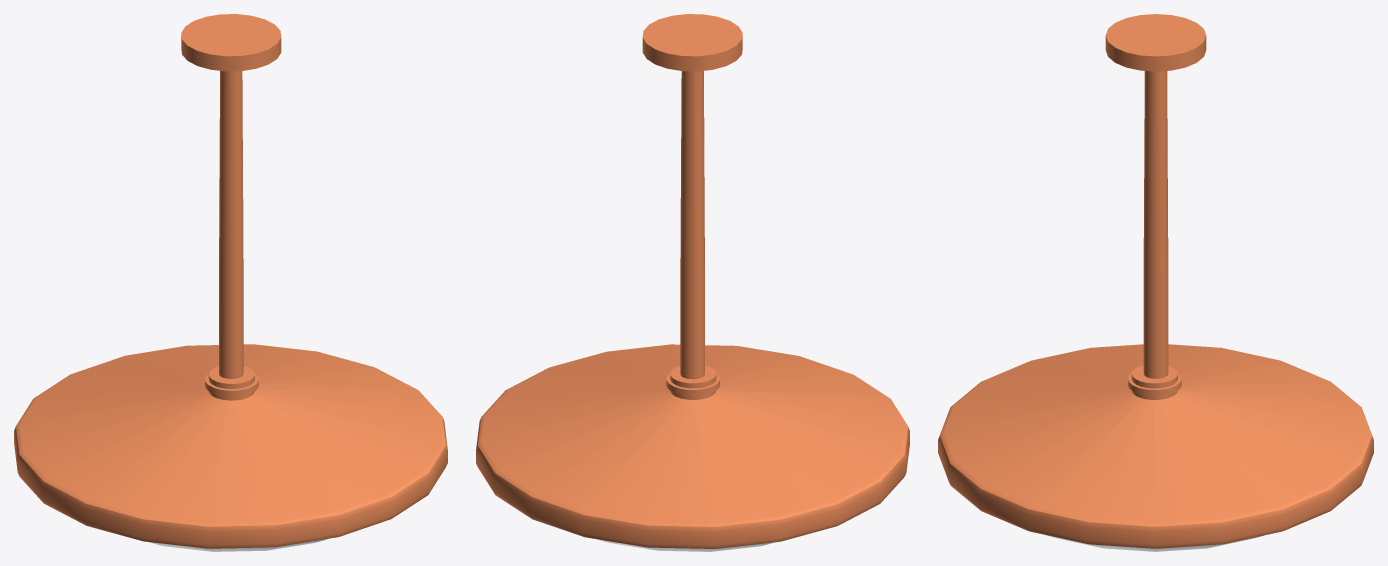
The model's file is lampCoc.obj.
The picture shows the model from 3 angles, left to right: view 1: azimuth 30°, elevation 25°; view 2: azimuth 150°, elevation 25°; view 3: azimuth 270°, elevation 25°; orthographic projection.
Parts seen in each view (by area): view 1: colgante1; view 2: colgante1; view 3: colgante1.
Part boxes in pixels (x1,y1,x2,y2): colgante1: [14, 14, 447, 551]; colgante1: [476, 14, 909, 551]; colgante1: [938, 14, 1373, 551].
Bounding box in the file's own units: 2.66 × 3.18 × 2.66.
2 materials, 2 textured.
